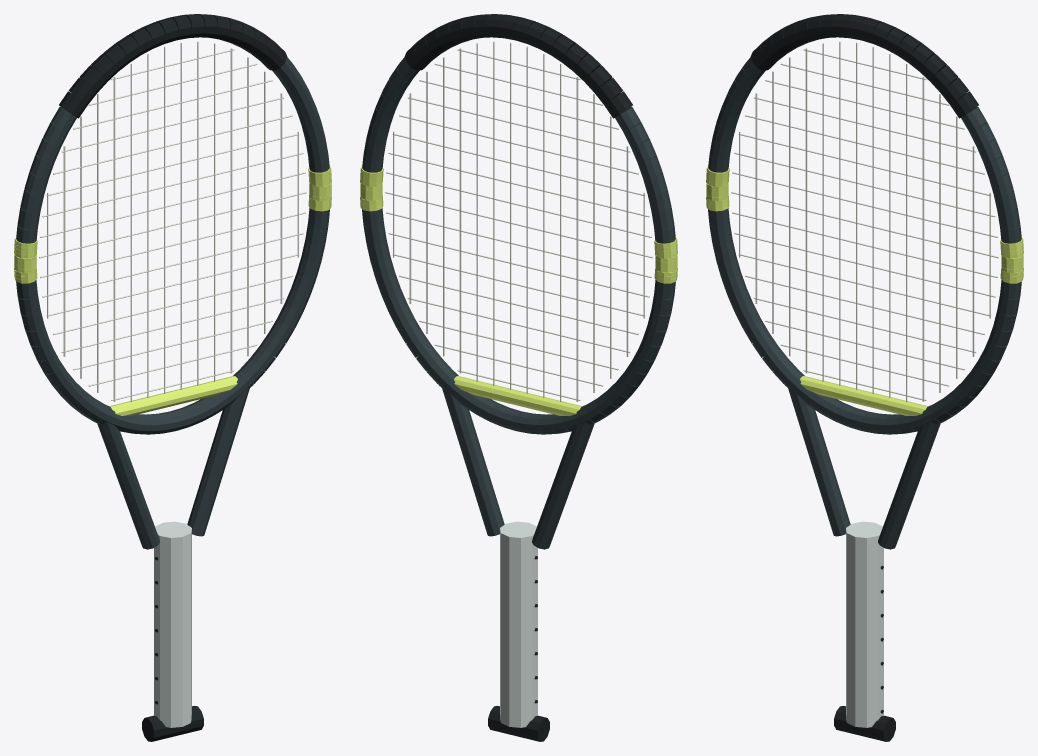
Rendered from match-racket.glb.
The picture shows the model from 3 angles, left to right: view 1: azimuth 30°, elevation 25°; view 2: azimuth 150°, elevation 25°; view 3: azimuth 330°, elevation 25°; orthographic projection.
Visible parts, largest first — view 1: Handle pallet, Throat.001, Throat, Throat bridge, Butt cap, Main string.004, Main string.011, Main string.007, Main string.006, Main string.009, Main string.010, Main string.008 (+11 smaller); view 2: Handle pallet, Throat.001, Throat, Throat bridge, Butt cap, Main string.004, Main string.011, Main string.007, Main string.006, Main string.009, Main string.010, Main string.008 (+11 smaller); view 3: Handle pallet, Throat, Throat.001, Throat bridge, Butt cap, Main string.011, Main string.004, Main string.008, Main string.009, Main string.006, Main string.005, Main string.007 (+11 smaller).
Boxes of the visible parts, x1=… form: Handle pallet: x1=154, y1=521, x2=191, y2=727; Throat.001: x1=187, y1=388, x2=249, y2=536; Throat: x1=97, y1=422, x2=159, y2=549; Throat bridge: x1=109, y1=376, x2=237, y2=415; Butt cap: x1=142, y1=706, x2=203, y2=741; Main string.004: x1=113, y1=76, x2=115, y2=401; Main string.011: x1=230, y1=48, x2=232, y2=373; Main string.007: x1=164, y1=46, x2=165, y2=393; Main string.006: x1=147, y1=53, x2=148, y2=397; Main string.009: x1=197, y1=41, x2=198, y2=385; Main string.010: x1=214, y1=43, x2=215, y2=381; Main string.008: x1=180, y1=42, x2=181, y2=389; Handle pallet: x1=500, y1=521, x2=537, y2=727; Throat.001: x1=442, y1=388, x2=504, y2=536; Throat: x1=532, y1=422, x2=594, y2=549; Throat bridge: x1=454, y1=376, x2=582, y2=415; Butt cap: x1=488, y1=706, x2=549, y2=741; Main string.004: x1=576, y1=76, x2=578, y2=401; Main string.011: x1=459, y1=48, x2=461, y2=373; Main string.007: x1=526, y1=46, x2=527, y2=393; Main string.006: x1=543, y1=53, x2=544, y2=397; Main string.009: x1=493, y1=41, x2=494, y2=385; Main string.010: x1=476, y1=43, x2=477, y2=381; Main string.008: x1=510, y1=42, x2=511, y2=389; Handle pallet: x1=846, y1=521, x2=883, y2=727; Throat: x1=788, y1=388, x2=850, y2=536; Throat.001: x1=878, y1=422, x2=940, y2=549; Throat bridge: x1=800, y1=376, x2=928, y2=415; Butt cap: x1=834, y1=706, x2=895, y2=741; Main string.011: x1=922, y1=76, x2=924, y2=401; Main string.004: x1=805, y1=48, x2=807, y2=373; Main string.008: x1=872, y1=46, x2=873, y2=393; Main string.009: x1=889, y1=53, x2=890, y2=397; Main string.006: x1=839, y1=41, x2=840, y2=385; Main string.005: x1=822, y1=43, x2=823, y2=381; Main string.007: x1=856, y1=42, x2=857, y2=389.
Bounding box in the file's own units: 0.3158 × 0.6875 × 0.034.
